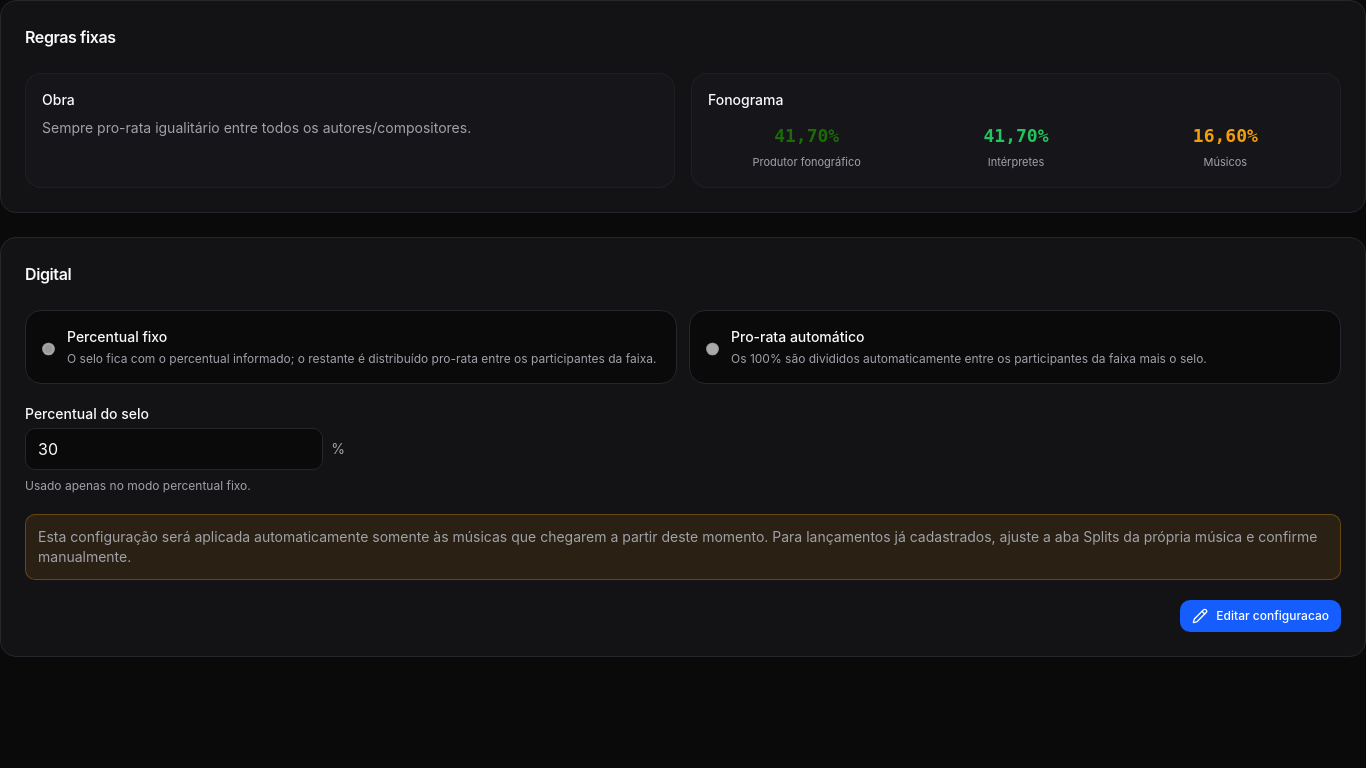
it: SplitsConfigPage › renders editable digital split controls
Expected: the radio button labelled "Percentual fixo" is checked, x1=42 y1=330 x2=55 y2=366
Expected: the radio button labelled "Pro-rata automático" is shown, x1=706 y1=330 x2=719 y2=366
Click the button "Editar configuracao" at [1261, 616], box x1=1180 y1=600 x2=1341 y2=632
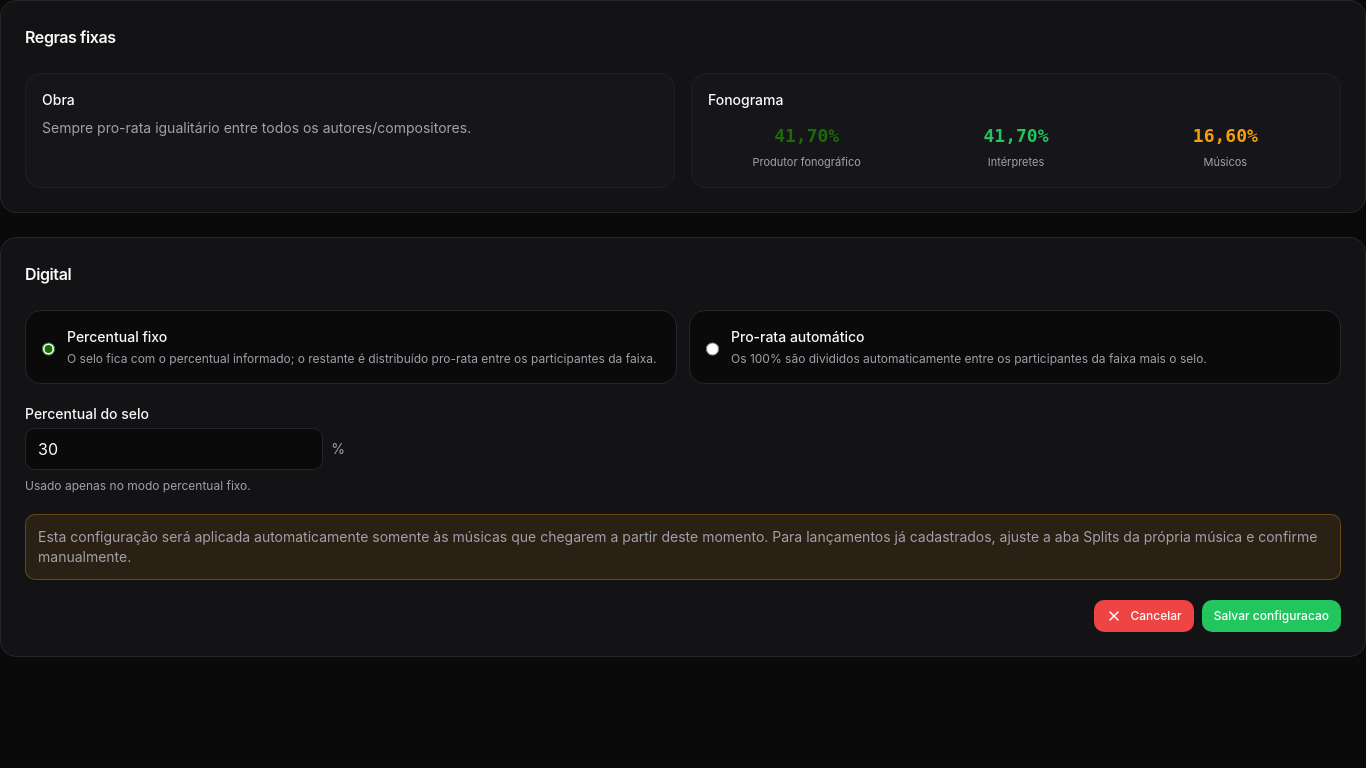
Expected: the number field labelled "Percentual do selo" is enabled, x1=25 y1=428 x2=323 y2=470
Now the button "Salvar configuracao" is shown, box x1=1202 y1=600 x2=1341 y2=632
